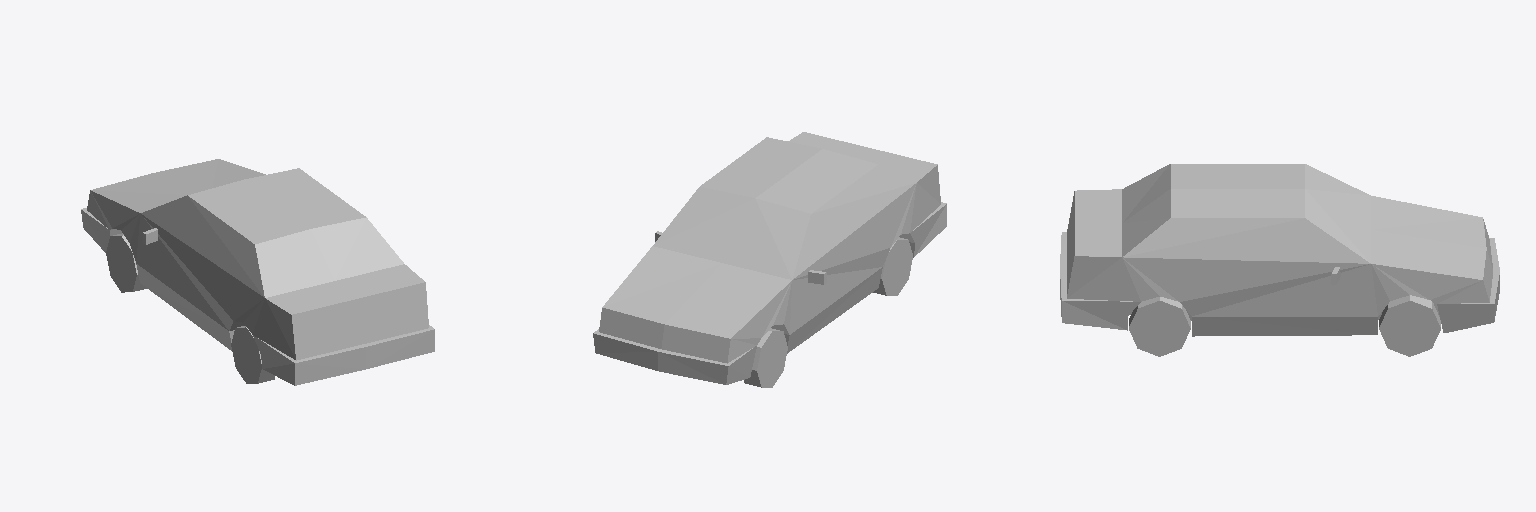
File: Car2_o3.obj
3 renders of one model, left to right at view 1: azimuth 30°, elevation 25°; view 2: azimuth 150°, elevation 25°; view 3: azimuth 270°, elevation 25°, orthographic.
Parts seen in each view (by area): view 1: Car2; view 2: Car2; view 3: Car2.
Part boxes in pixels (left/top/right/bottom): Car2: left=81, top=159, right=434, bottom=385; Car2: left=593, top=132, right=946, bottom=387; Car2: left=1060, top=164, right=1499, bottom=356.
Bounding box in the file's own units: 1.58 × 1.2 × 3.56.